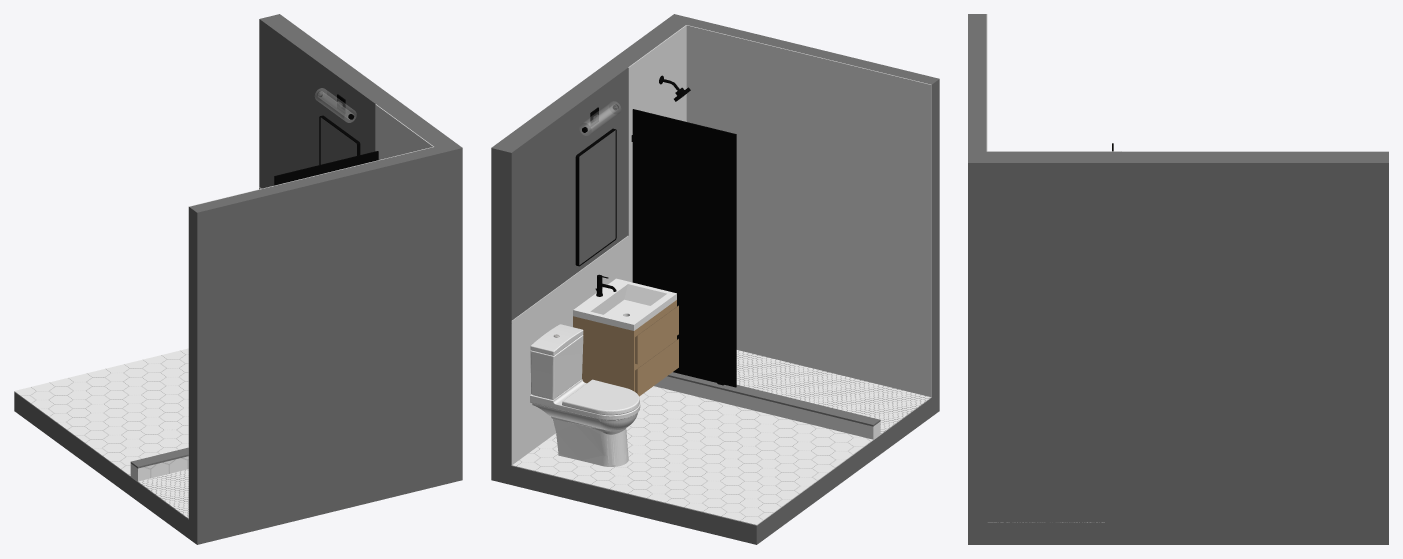
3 views of the same model, side by side, from view 1: azimuth 30°, elevation 25°; view 2: azimuth 150°, elevation 25°; view 3: azimuth 270°, elevation 25° (orthographic). The views are drawn at different scales.
Parts seen in each view (by area): view 1: 3DGeom-67, 3DGeom-33, 3DGeom-69, 3DGeom-68, 3DGeom-34, 3DGeom-59, 3DGeom-32, 3DGeom-56, 3DGeom-36, 3DGeom-66, 3DGeom-40, 3DGeom-58; view 2: 3DGeom-58, 3DGeom-33, 3DGeom-36, 3DGeom-69, 3DGeom-68, 3DGeom-34, 3DGeom-60, 3DGeom-32, 3DGeom-28, 3DGeom-67, 3DGeom-56, 3DGeom-3 (+10 smaller); view 3: 3DGeom-68, 3DGeom-34, 3DGeom-67.
Part boxes in pixels (x1=…): 3DGeom-67: x1=189, y1=147, x2=442, y2=525; 3DGeom-33: x1=14, y1=348, x2=188, y2=476; 3DGeom-69: x1=259, y1=19, x2=375, y2=188; 3DGeom-68: x1=260, y1=14, x2=462, y2=465; 3DGeom-34: x1=14, y1=392, x2=462, y2=544; 3DGeom-59: x1=382, y1=109, x2=433, y2=158; 3DGeom-32: x1=137, y1=469, x2=188, y2=519; 3DGeom-56: x1=320, y1=117, x2=356, y2=164; 3DGeom-36: x1=274, y1=151, x2=378, y2=185; 3DGeom-66: x1=137, y1=456, x2=188, y2=481; 3DGeom-40: x1=314, y1=88, x2=356, y2=122; 3DGeom-58: x1=188, y1=146, x2=433, y2=519; 3DGeom-58: x1=686, y1=25, x2=931, y2=397; 3DGeom-33: x1=511, y1=386, x2=873, y2=525; 3DGeom-36: x1=632, y1=109, x2=736, y2=387; 3DGeom-69: x1=511, y1=68, x2=627, y2=320; 3DGeom-68: x1=491, y1=14, x2=693, y2=465; 3DGeom-34: x1=491, y1=392, x2=939, y2=544; 3DGeom-60: x1=511, y1=236, x2=628, y2=464; 3DGeom-32: x1=736, y1=350, x2=931, y2=435; 3DGeom-28: x1=573, y1=300, x2=678, y2=396; 3DGeom-67: x1=686, y1=19, x2=939, y2=397; 3DGeom-56: x1=579, y1=130, x2=615, y2=264; 3DGeom-3: x1=530, y1=324, x2=640, y2=462; 3DGeom-68: x1=968, y1=151, x2=1388, y2=522; 3DGeom-34: x1=968, y1=523, x2=1388, y2=544; 3DGeom-67: x1=968, y1=14, x2=986, y2=151.
Size of the model in its own units: 2.17 by 2.59 by 2.59.
